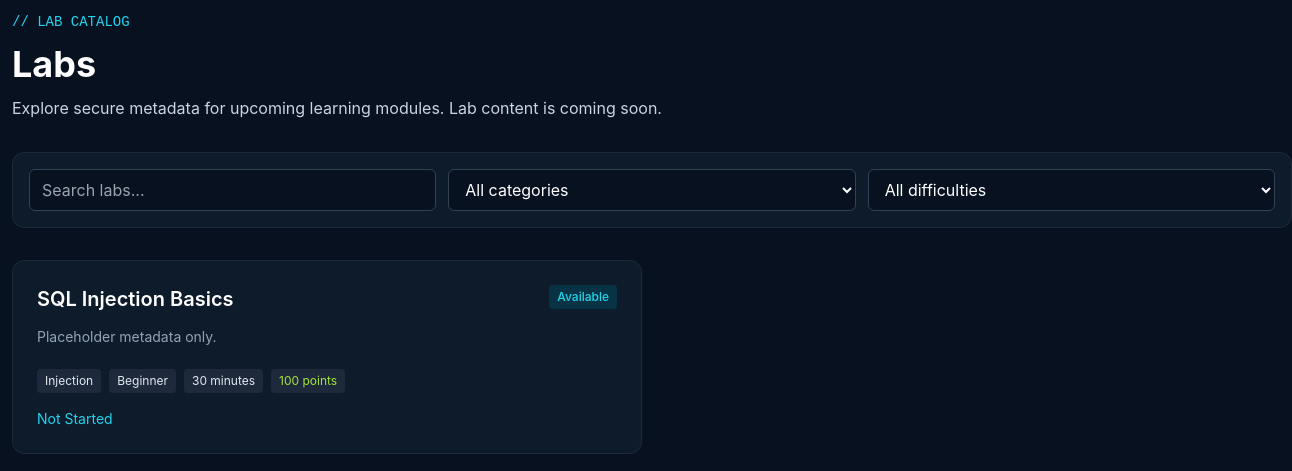
Scenario: lab pages › renders labs, backend progress, and filters
Expected: the heading "Labs" is shown, [12, 42, 96, 86]
Expected: the heading "SQL Injection Basics" is shown, [37, 285, 234, 313]
Type "missing" into the search field labelled "Search labs" at (233, 190), box [29, 169, 436, 211]
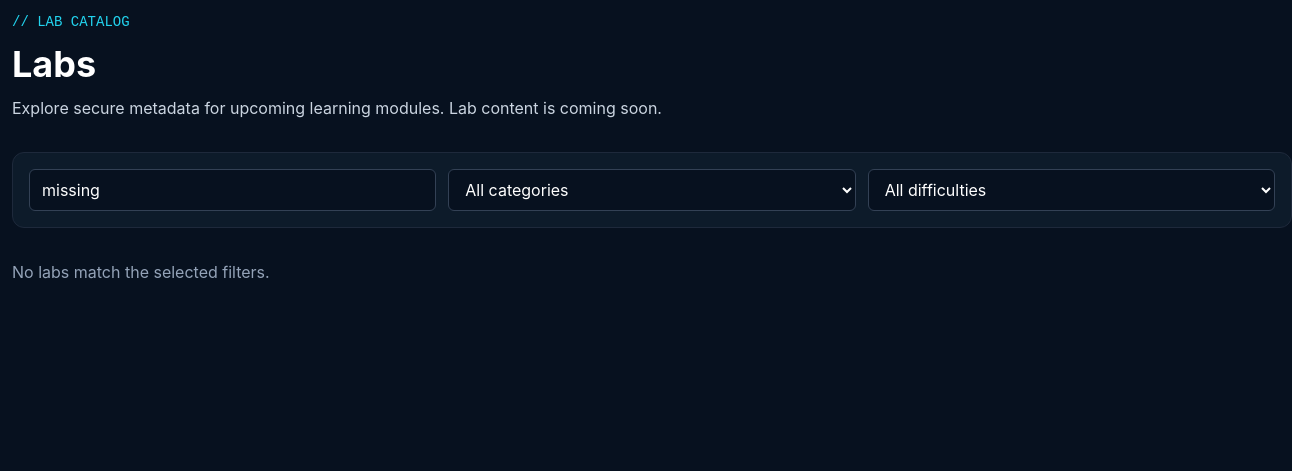
Expected: the text "No labs match the selected filters." is shown, [12, 262, 270, 282]
